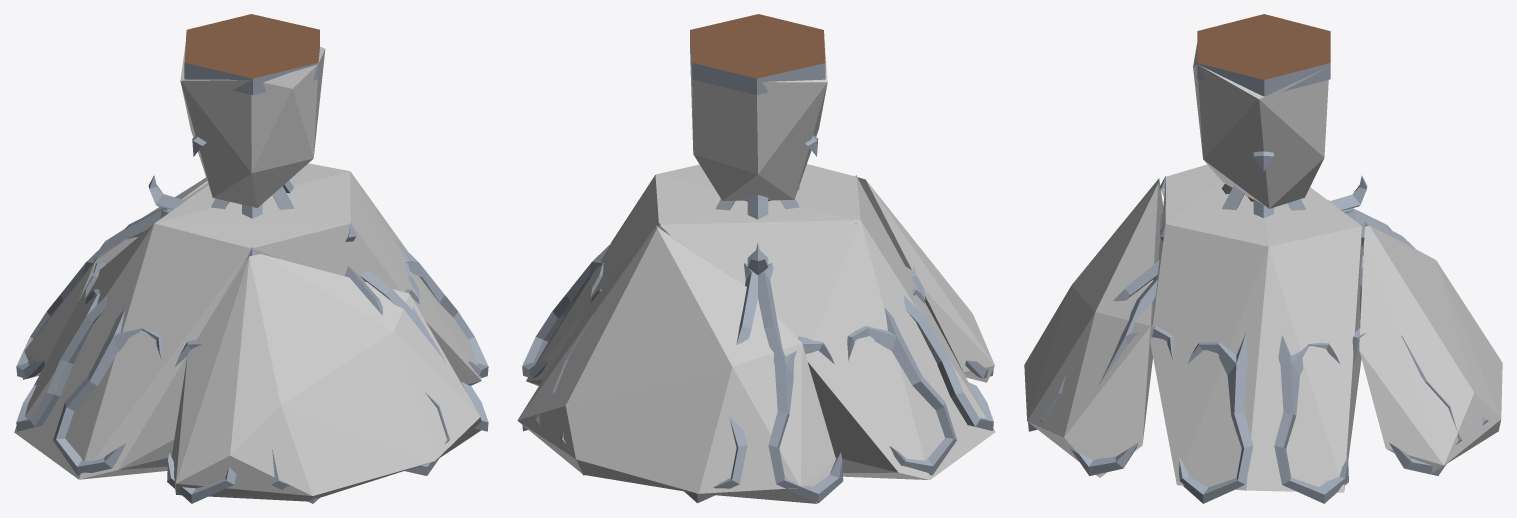
File: SM_Prop_Chandelier_02.fbx
3 views of the same model, side by side, from view 1: azimuth 30°, elevation 25°; view 2: azimuth 150°, elevation 25°; view 3: azimuth 270°, elevation 25° (orthographic).
Parts seen in each view (by area): view 1: SM_Prop_Chandelier_02_ConvexHulls, SM_Prop_Chandelier_02; view 2: SM_Prop_Chandelier_02_ConvexHulls, SM_Prop_Chandelier_02; view 3: SM_Prop_Chandelier_02_ConvexHulls, SM_Prop_Chandelier_02.
Part boxes in pixels (x1,y1,x2,y2): SM_Prop_Chandelier_02_ConvexHulls: (14,41,481,501); SM_Prop_Chandelier_02: (16,14,488,503); SM_Prop_Chandelier_02_ConvexHulls: (517,39,995,503); SM_Prop_Chandelier_02: (522,14,993,503); SM_Prop_Chandelier_02_ConvexHulls: (1024,43,1502,492); SM_Prop_Chandelier_02: (1028,14,1498,503).
Size of the model in its own units: 77.53 by 76.34 by 70.93.
Materials: 2 (1 with a texture image).
